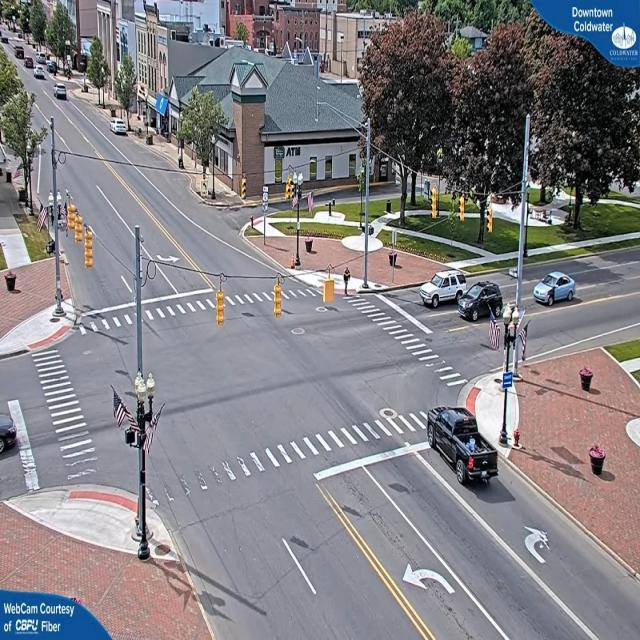car: (428, 404, 502, 490), (461, 280, 505, 324), (422, 271, 468, 310), (534, 272, 578, 307), (111, 120, 129, 136)
